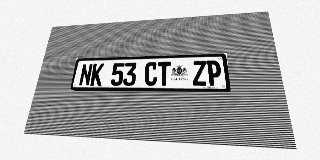3: (123, 62, 137, 86)
5: (110, 63, 125, 86)
C: (144, 62, 158, 86)
K: (90, 63, 104, 86)
N: (78, 64, 93, 86)
P: (206, 60, 222, 86)
T: (157, 62, 171, 86)
Z: (192, 61, 207, 86)
